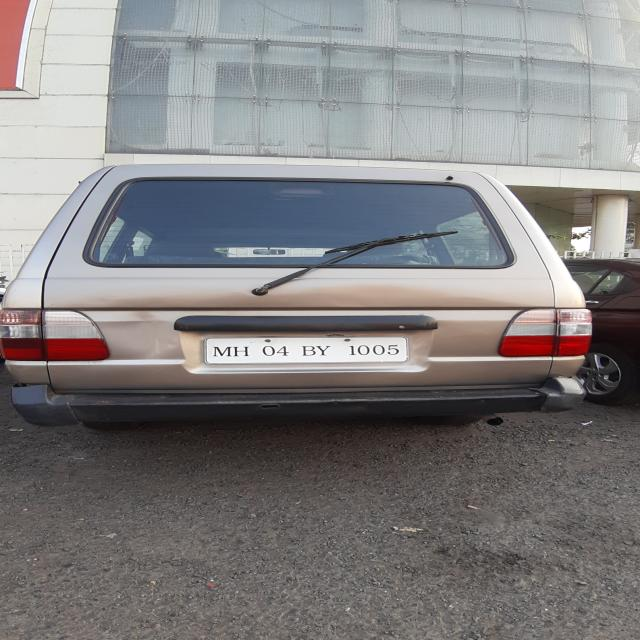Number-Plate: (209, 339, 404, 360)
